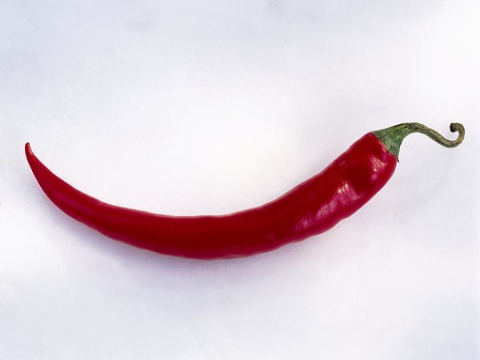Chilli: (14, 110, 467, 270)
